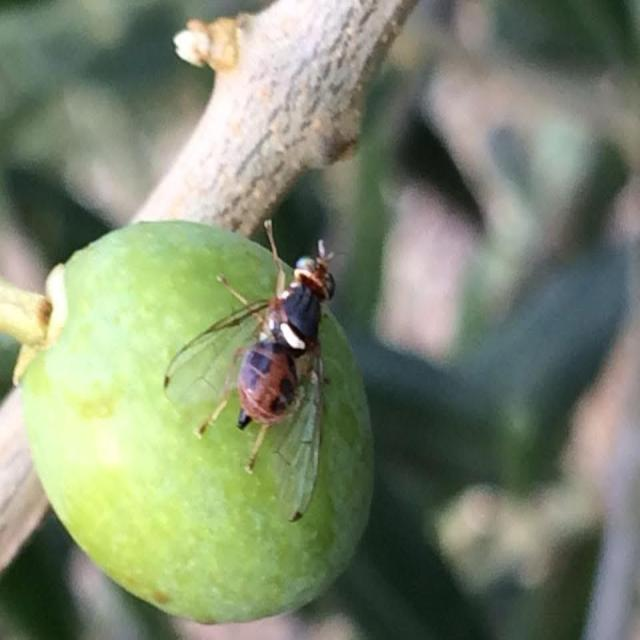Olive Fruit Fly: (163, 220, 335, 521)
